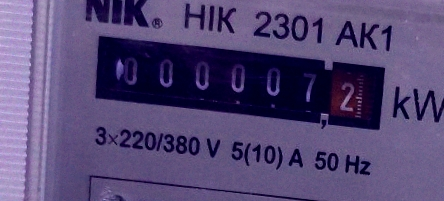0: (188, 54, 215, 95), (117, 51, 143, 88), (260, 61, 285, 99), (226, 59, 250, 98), (154, 53, 178, 90)
2: (334, 77, 360, 115)
7: (295, 66, 321, 107)
screen: (85, 24, 396, 140)
